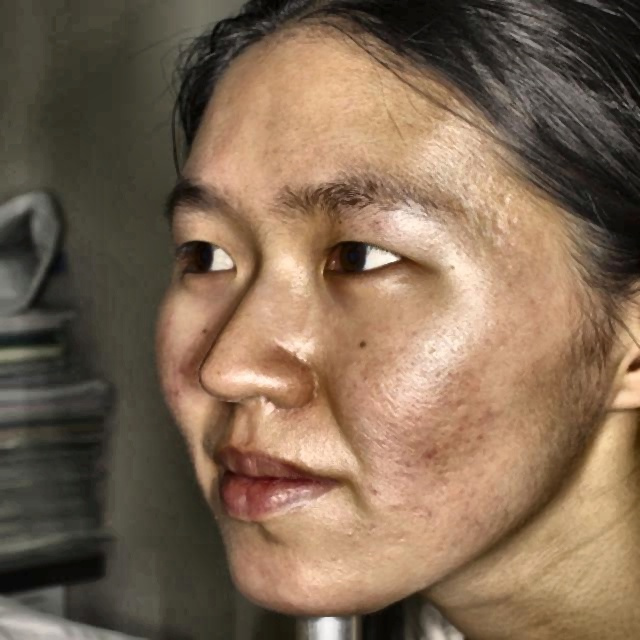comedone: (420, 446, 446, 465)
